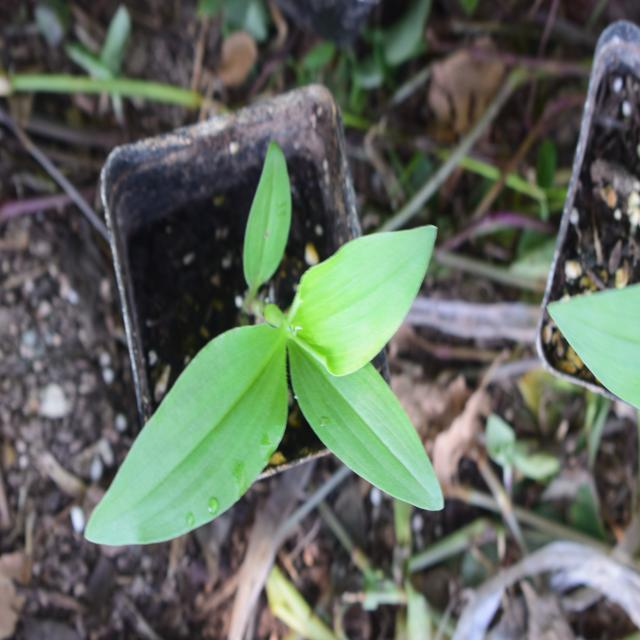Common Dayflower: (86, 208, 450, 554)
